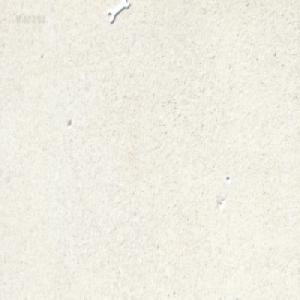Wrench: (108, 0, 129, 22)
